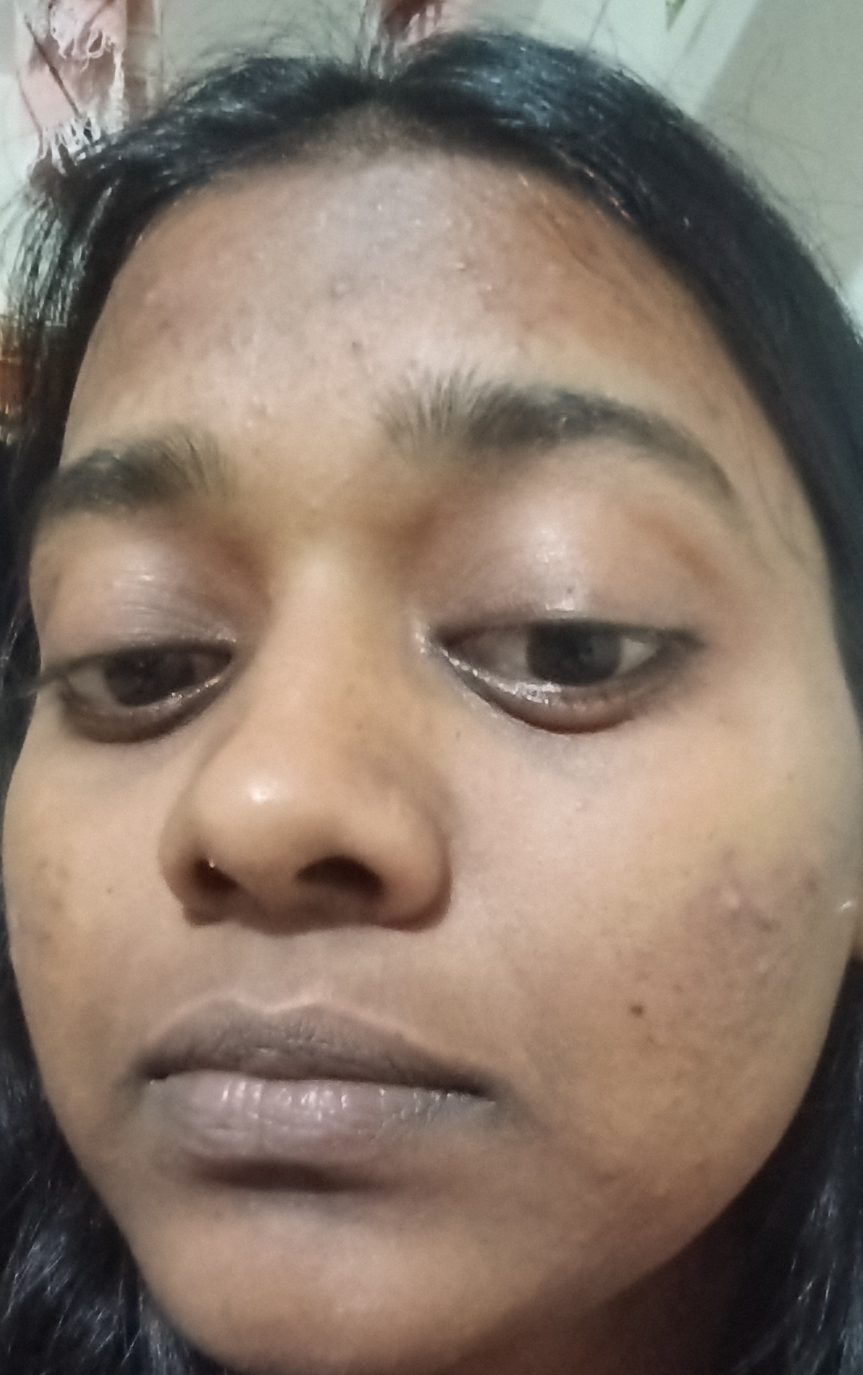papule: (697, 872, 783, 941), (311, 267, 393, 321)
